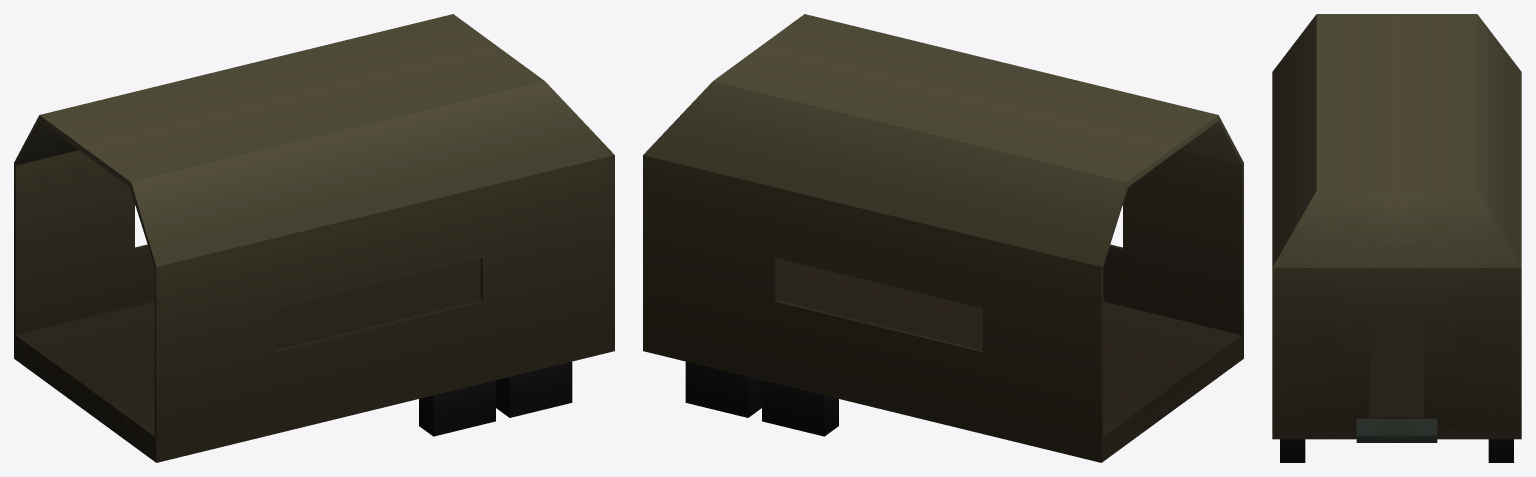
File: train_half_empty_placeholder_v011.fbx
The picture shows the model from 3 angles, left to right: view 1: azimuth 30°, elevation 25°; view 2: azimuth 150°, elevation 25°; view 3: azimuth 270°, elevation 25°; orthographic projection. The views are drawn at different scales.
Parts seen in each view (by area): view 1: base v2; view 2: base v2; view 3: base v2.
Boxes of the visible parts, <box> form: base v2: <box>14,14,614,462</box>; base v2: <box>643,14,1243,462</box>; base v2: <box>1272,14,1521,462</box>.
Size of the model in its own units: 295 by 352 by 597.
1 material, 1 textured.
